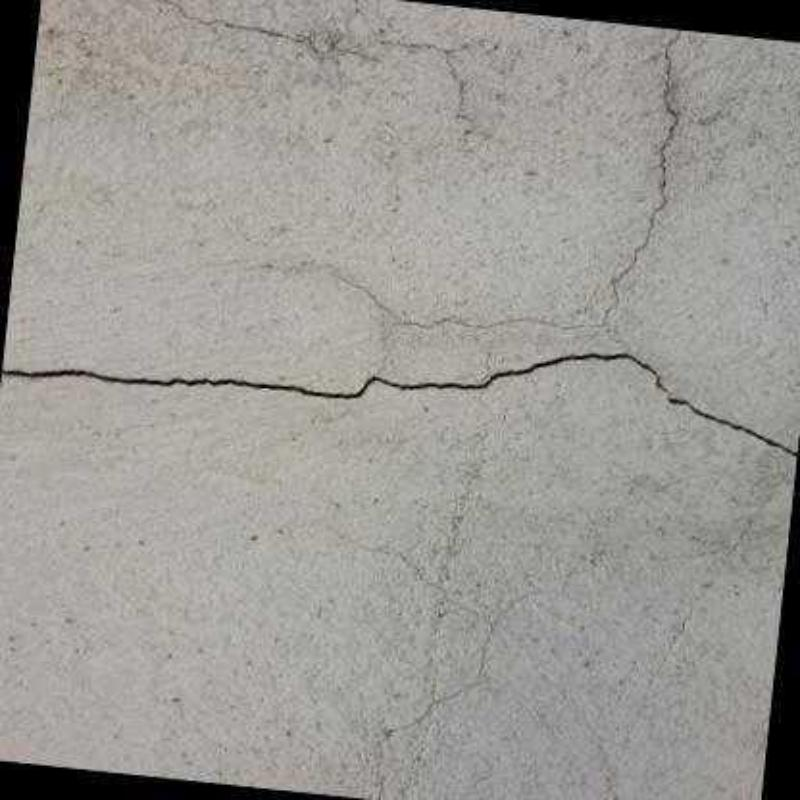crack: (338, 29, 683, 331), (0, 350, 798, 458), (371, 546, 538, 735), (164, 0, 378, 65), (378, 37, 476, 118)
